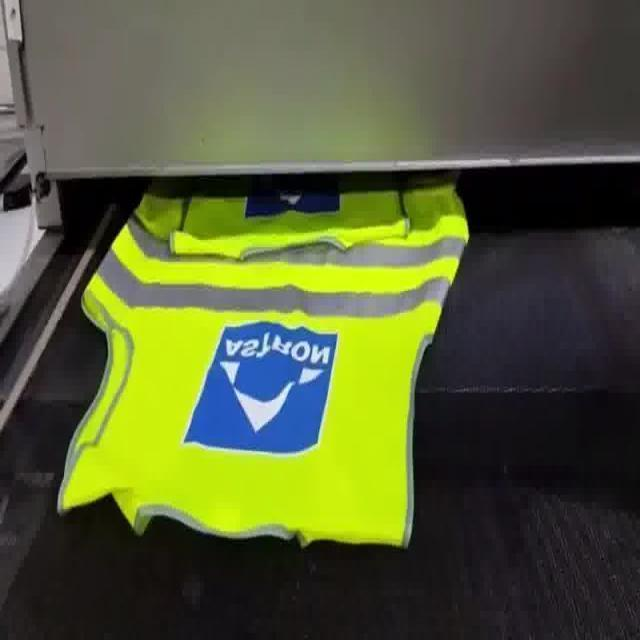safety_vest: (56, 181, 473, 554)
